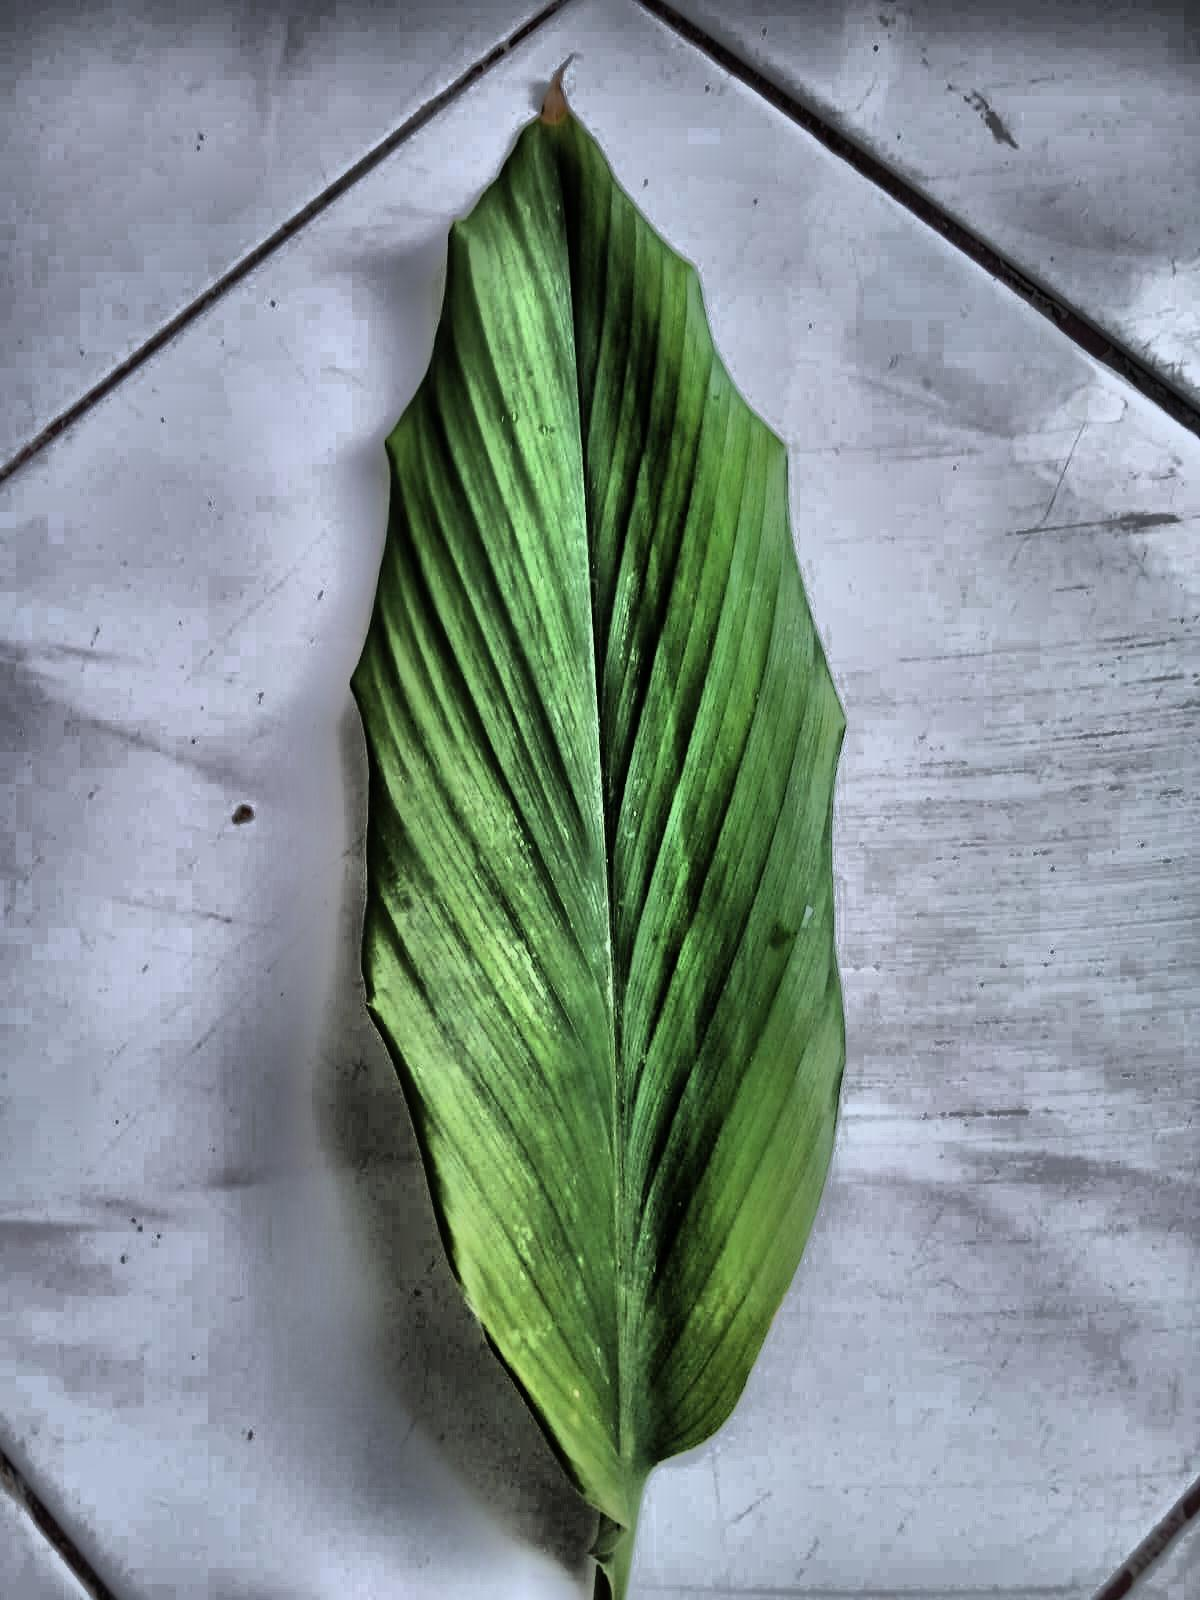daun kunyit: (352, 81, 845, 1599)
